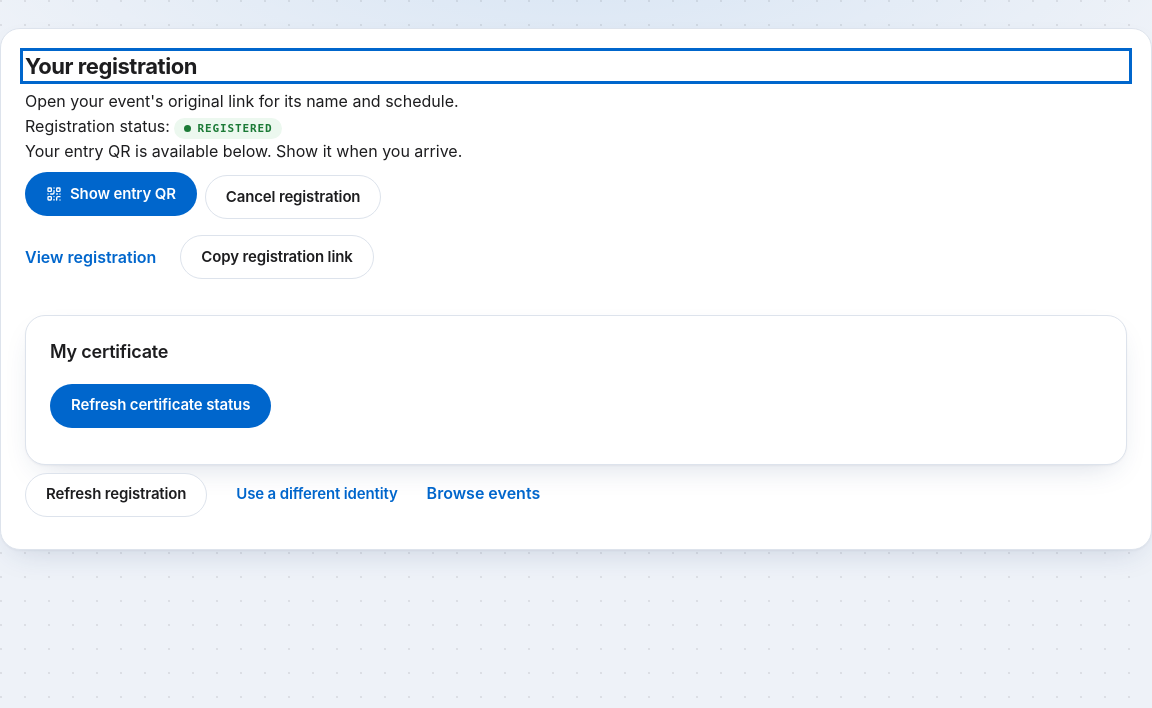
Test: participant registration flow › explains cancellation CANCELLATION_CUTOFF_REACHED only after a server rejection
Click the button "Cancel registration" at point(293, 197), box [205,175,381,219]
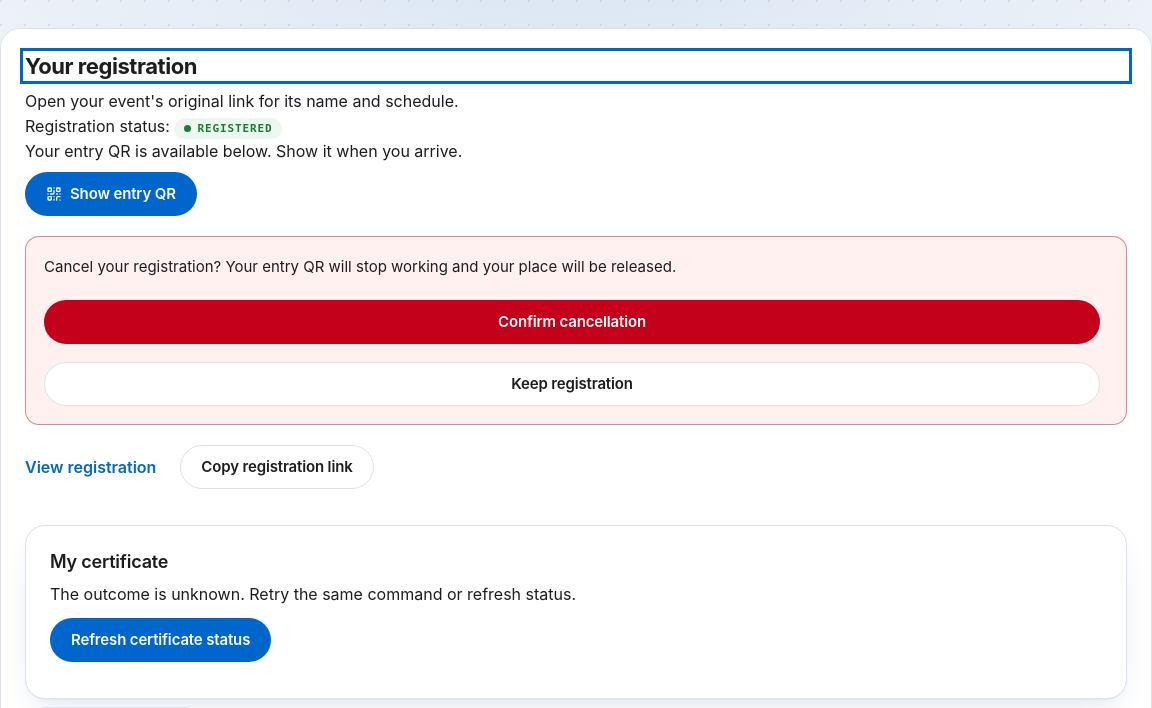
Click the button "Confirm cancellation" at point(572, 322), box [44,300,1100,344]
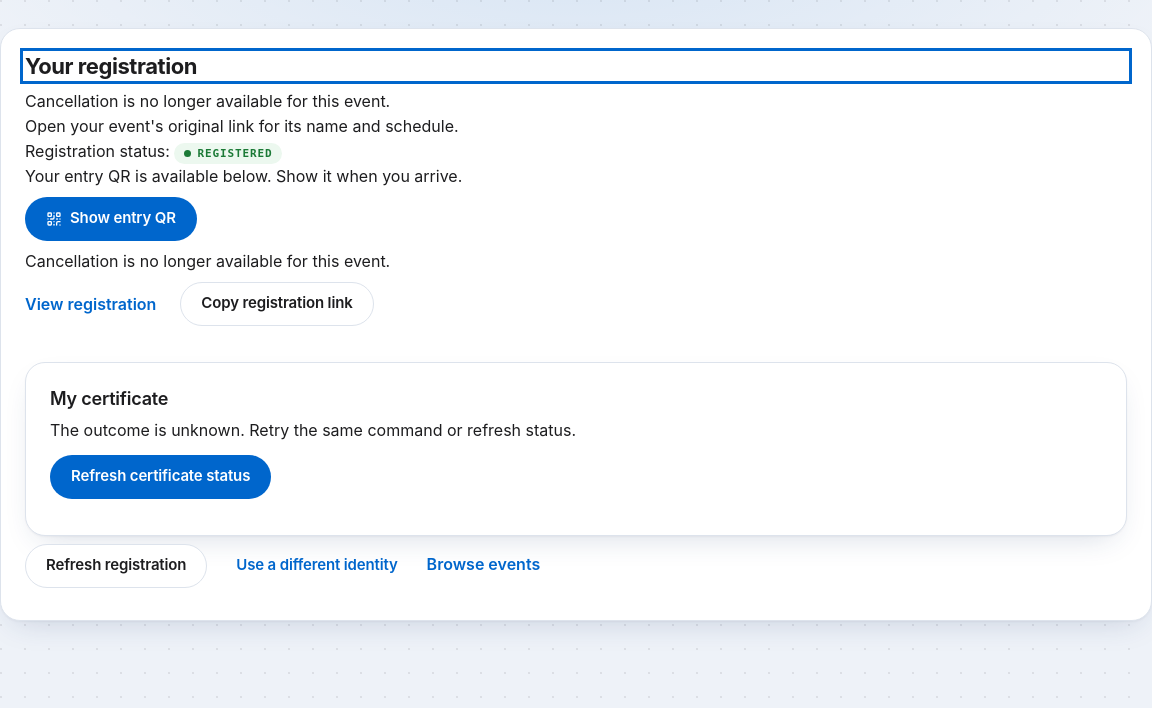
Expected: the button "Cancel registration" is not shown
Now the message "Cancellation is no longer available for this event." is shown, box [25,91,390,111]
